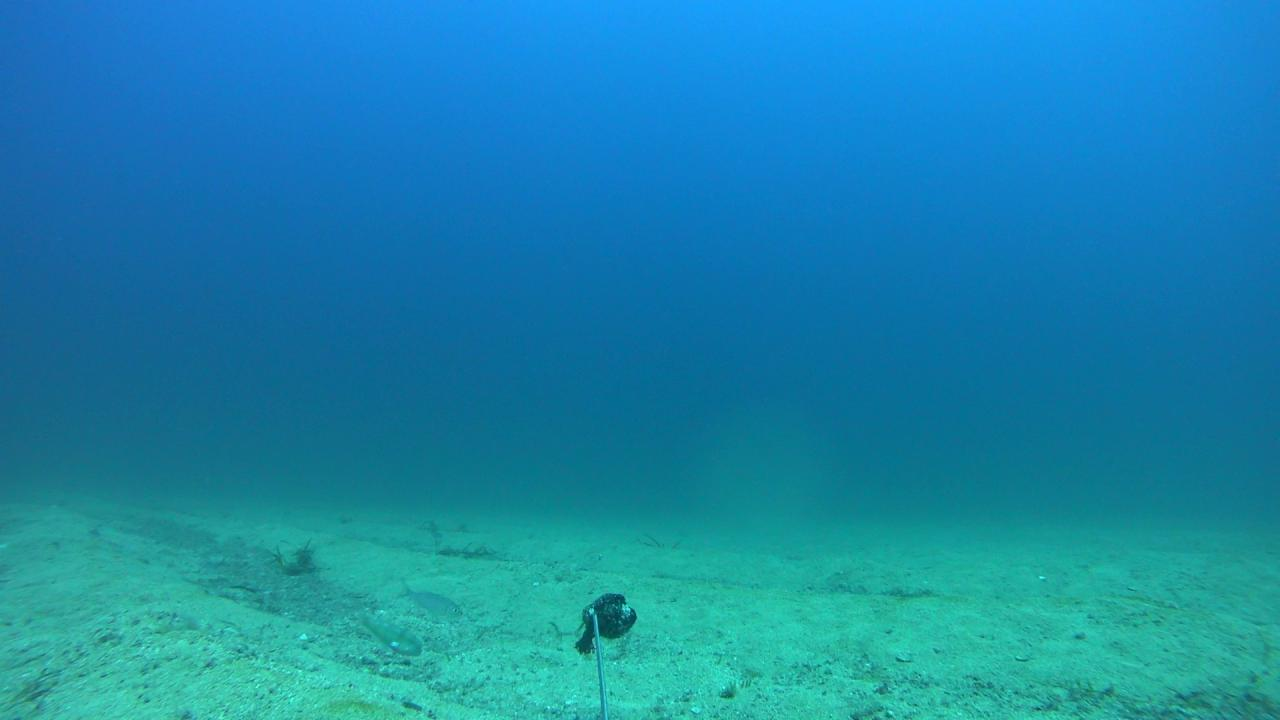pagellus: (397, 581, 462, 618)
raor: (346, 607, 429, 659)
